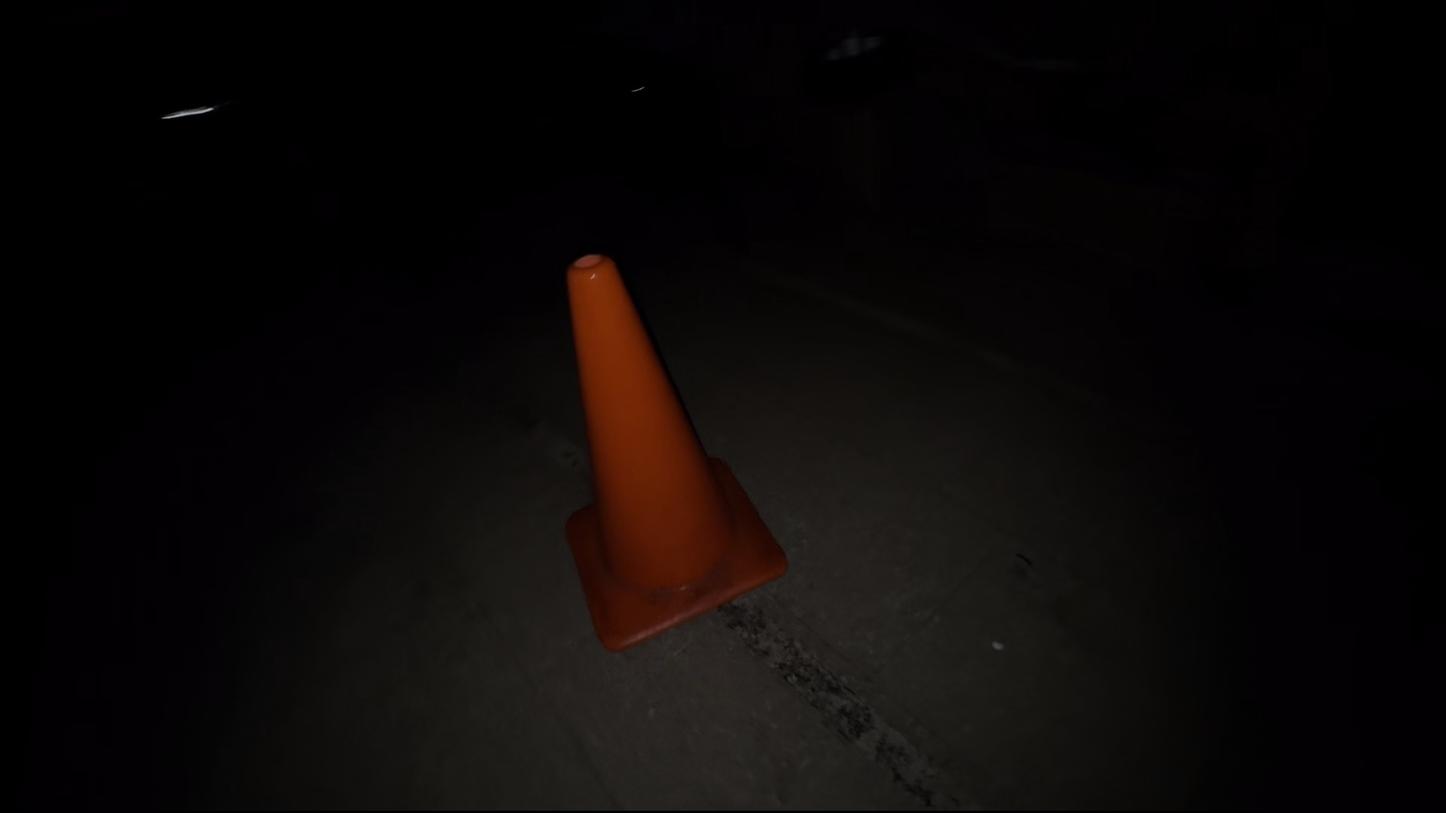traffic_cone: (562, 252, 789, 652)
